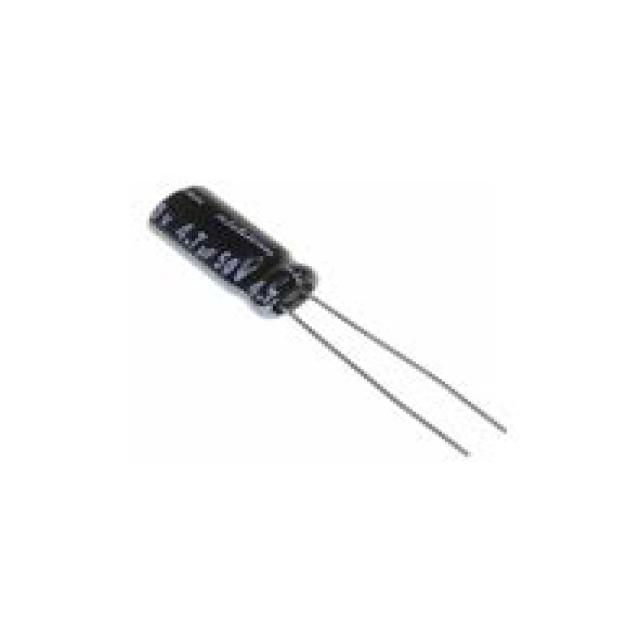Capacitor: (146, 186, 510, 462)
